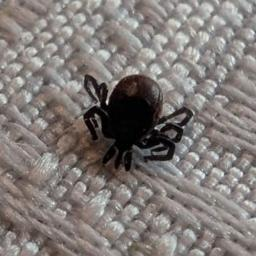Ixodes scapularis: (82, 74, 193, 171)
